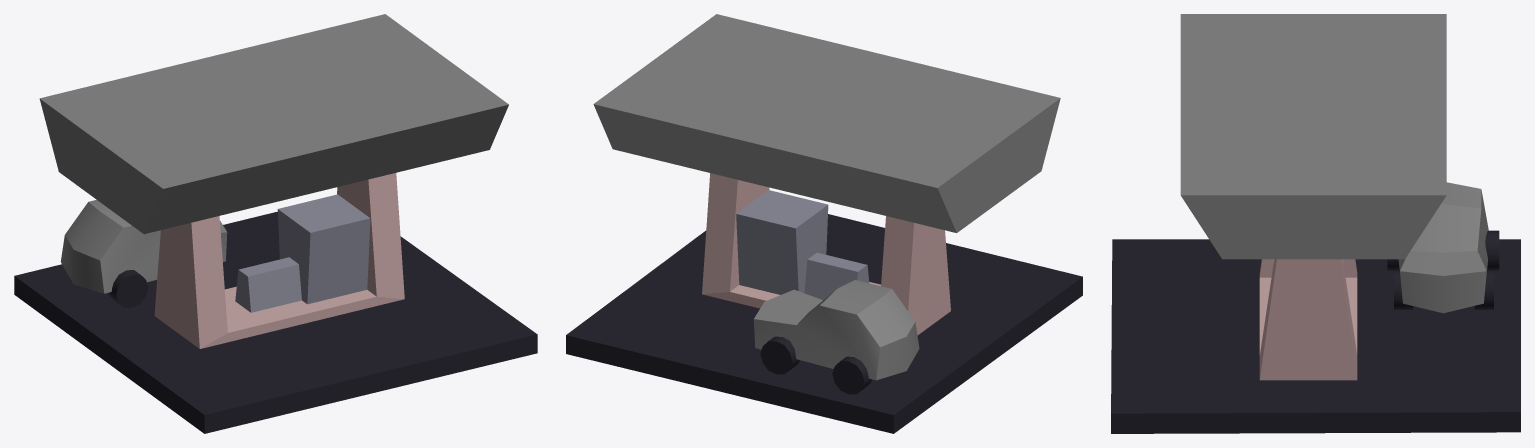
The model's file is Lvl3.fbx.
The picture shows the model from 3 angles, left to right: view 1: azimuth 30°, elevation 25°; view 2: azimuth 150°, elevation 25°; view 3: azimuth 270°, elevation 25°; orthographic projection. The views are drawn at different scales.
Visible parts, largest first — view 1: Lvl3; view 2: Lvl3; view 3: Lvl3.
Part boxes in pixels (x1,y1,x2,y2): Lvl3: (14, 14, 537, 433); Lvl3: (566, 14, 1082, 433); Lvl3: (1111, 14, 1520, 433).
Bounding box in the file's own units: 298 × 184 × 284.
